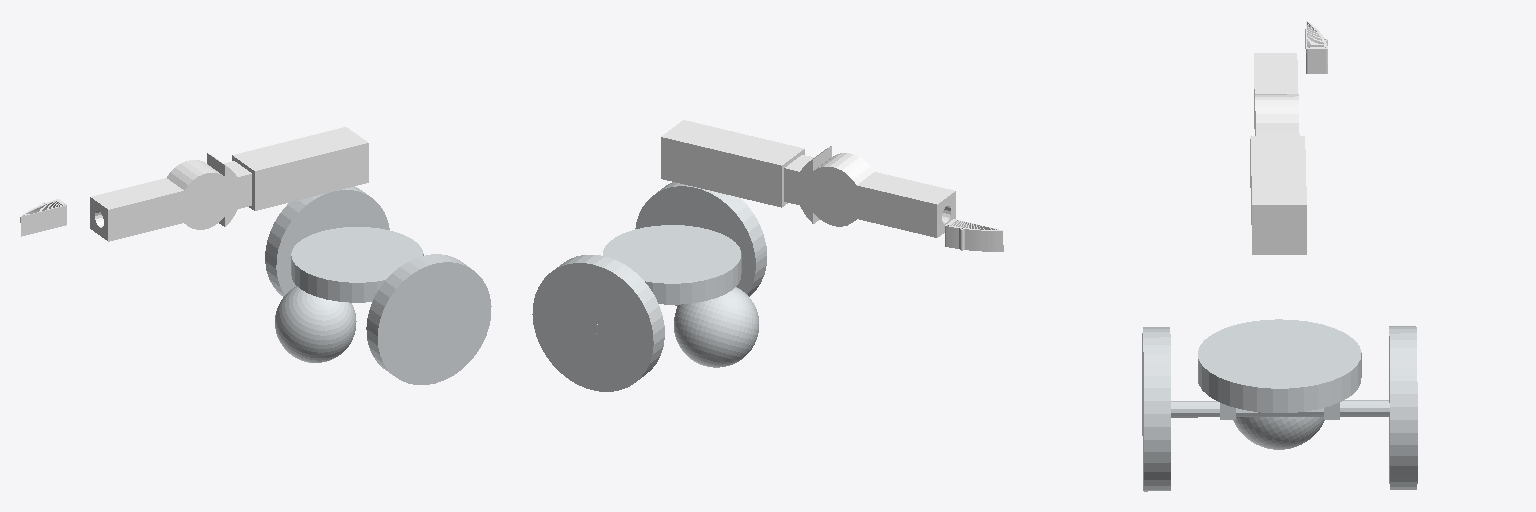
URDF robot description (car3):
<?xml version="1.0" encoding="utf-8"?>
<!-- This URDF was automatically created by SolidWorks to URDF Exporter! Originally created by [author] ([email redacted]) 
     Commit Version: 1.6.0-4-g7f85cfe  Build Version: 1.6.7995.38578
     For more information, please see http://wiki.ros.org/sw_urdf_exporter -->
<robot
  name="car3">
  <link
    name="base_link">
    <inertial>
      <origin
        xyz="0.0053088 6.039E-05 0.20369"
        rpy="0 0 0" />
      <mass
        value="10.782" />
      <inertia
        ixx="0.080479"
        ixy="0.00020744"
        ixz="0.0029973"
        iyy="0.062246"
        iyz="3.4096E-05"
        izz="0.13176" />
    </inertial>
    <visual>
      <origin
        xyz="0 0 0"
        rpy="0 0 0" />
      <geometry>
        <mesh
          filename="package://car3/meshes/base_link.STL" />
      </geometry>
      <material
        name="">
        <color
          rgba="0.89804 0.91765 0.92941 1" />
      </material>
    </visual>
    <collision>
      <origin
        xyz="0 0 0"
        rpy="0 0 0" />
      <geometry>
        <mesh
          filename="package://car3/meshes/base_link.STL" />
      </geometry>
    </collision>
  </link>
  <link
    name="castwheel">
    <inertial>
      <origin
        xyz="-0.063618 0.0087179 -0.089187"
        rpy="0 0 0" />
      <mass
        value="8.9511" />
      <inertia
        ixx="0.030635"
        ixy="0"
        ixz="0"
        iyy="0.030635"
        iyz="0"
        izz="0.030635" />
    </inertial>
    <visual>
      <origin
        xyz="0 0 0"
        rpy="0 0 0" />
      <geometry>
        <mesh
          filename="package://car3/meshes/castwheel.STL" />
      </geometry>
      <material
        name="">
        <color
          rgba="0.89804 0.91765 0.92941 1" />
      </material>
    </visual>
    <collision>
      <origin
        xyz="0 0 0"
        rpy="0 0 0" />
      <geometry>
        <mesh
          filename="package://car3/meshes/castwheel.STL" />
      </geometry>
    </collision>
  </link>
  <joint
    name="castwheel_joint"
    type="continuous">
    <origin
      xyz="0 -0.0012501 0.0925"
      rpy="1.7999 -0.42435 0.8825" />
    <parent
      link="base_link" />
    <child
      link="castwheel" />
    <axis
      xyz="0.57888 -0.079328 0.81154" />
  </joint>
  <link
    name="leftwheel">
    <inertial>
      <origin
        xyz="6.245E-17 3.8164E-17 0.024994"
        rpy="0 0 0" />
      <mass
        value="9.4472" />
      <inertia
        ixx="0.05564"
        ixy="0"
        ixz="0"
        iyy="0.05564"
        iyz="0"
        izz="0.10734" />
    </inertial>
    <visual>
      <origin
        xyz="0 0 0"
        rpy="0 0 0" />
      <geometry>
        <mesh
          filename="package://car3/meshes/leftwheel.STL" />
      </geometry>
      <material
        name="">
        <color
          rgba="0.89804 0.91765 0.92941 1" />
      </material>
    </visual>
    <collision>
      <origin
        xyz="0 0 0"
        rpy="0 0 0" />
      <geometry>
        <mesh
          filename="package://car3/meshes/leftwheel.STL" />
      </geometry>
    </collision>
  </link>
  <joint
    name="leftwheel_joint"
    type="continuous">
    <origin
      xyz="0.057271 -0.19937 0.15"
      rpy="-1.5708 -0.10501 -3.1302" />
    <parent
      link="base_link" />
    <child
      link="leftwheel" />
    <axis
      xyz="0 0 1" />
  </joint>
  <link
    name="rightwheel">
    <inertial>
      <origin
        xyz="-4.1633E-17 8.3267E-17 -0.024994"
        rpy="0 0 0" />
      <mass
        value="9.4472" />
      <inertia
        ixx="0.05564"
        ixy="0"
        ixz="0"
        iyy="0.05564"
        iyz="0"
        izz="0.10734" />
    </inertial>
    <visual>
      <origin
        xyz="0 0 0"
        rpy="0 0 0" />
      <geometry>
        <mesh
          filename="package://car3/meshes/rightwheel.STL" />
      </geometry>
      <material
        name="">
        <color
          rgba="0.89804 0.91765 0.92941 1" />
      </material>
    </visual>
    <collision>
      <origin
        xyz="0 0 0"
        rpy="0 0 0" />
      <geometry>
        <mesh
          filename="package://car3/meshes/rightwheel.STL" />
      </geometry>
    </collision>
  </link>
  <joint
    name="rightwheel_joint"
    type="continuous">
    <origin
      xyz="0.052721 0.20062 0.15"
      rpy="-1.5708 0.93928 -3.1302" />
    <parent
      link="base_link" />
    <child
      link="rightwheel" />
    <axis
      xyz="0 0 1" />
  </joint>
  <link
    name="link1">
    <inertial>
      <origin
        xyz="0.020977 1.0815E-17 0.15"
        rpy="0 0 0" />
      <mass
        value="7.0138" />
      <inertia
        ixx="0.07535"
        ixy="0"
        ixz="0"
        iyy="0.065314"
        iyz="0"
        izz="0.035458" />
    </inertial>
    <visual>
      <origin
        xyz="0 0 0"
        rpy="0 0 0" />
      <geometry>
        <mesh
          filename="package://car3/meshes/link1.STL" />
      </geometry>
      <material
        name="">
        <color
          rgba="1 1 1 0.35" />
      </material>
    </visual>
    <collision>
      <origin
        xyz="0 0 0"
        rpy="0 0 0" />
      <geometry>
        <mesh
          filename="package://car3/meshes/link1.STL" />
      </geometry>
    </collision>
  </link>
  <joint
    name="joint1"
    type="revolute">
    <origin
      xyz="0 0 0.235"
      rpy="0 0 0.011375" />
    <parent
      link="base_link" />
    <child
      link="link1" />
    <axis
      xyz="0 0 1" />
    <limit
      lower="-3.14"
      upper="3.14"
      effort="50"
      velocity="1.5" />
  </joint>
  <link
    name="link2">
    <inertial>
      <origin
        xyz="-0.13517 2.2454E-16 0"
        rpy="0 0 0" />
      <mass
        value="1.2926" />
      <inertia
        ixx="0.0033047"
        ixy="0"
        ixz="0"
        iyy="0.012724"
        iyz="0"
        izz="0.012724" />
    </inertial>
    <visual>
      <origin
        xyz="0 0 0"
        rpy="0 0 0" />
      <geometry>
        <mesh
          filename="package://car3/meshes/link2.STL" />
      </geometry>
      <material
        name="">
        <color
          rgba="1 1 1 0.35" />
      </material>
    </visual>
    <collision>
      <origin
        xyz="0 0 0"
        rpy="0 0 0" />
      <geometry>
        <mesh
          filename="package://car3/meshes/link2.STL" />
      </geometry>
    </collision>
  </link>
  <joint
    name="joint2"
    type="prismatic">
    <origin
      xyz="0 0 0.25"
      rpy="0 0 0" />
    <parent
      link="link1" />
    <child
      link="link2" />
    <axis
      xyz="0 0 1" />
    <limit
      lower="-0.2"
      upper="0"
      effort="10"
      velocity="1.5" />
  </joint>
  <link
    name="link3">
    <inertial>
      <origin
        xyz="0.094255 1.4008E-16 1.6653E-16"
        rpy="0 0 0" />
      <mass
        value="2.2879" />
      <inertia
        ixx="0.0027483"
        ixy="0"
        ixz="0"
        iyy="0.022648"
        iyz="0"
        izz="0.02234" />
    </inertial>
    <visual>
      <origin
        xyz="0 0 0"
        rpy="0 0 0" />
      <geometry>
        <mesh
          filename="package://car3/meshes/link3.STL" />
      </geometry>
      <material
        name="">
        <color
          rgba="1 1 1 0.35" />
      </material>
    </visual>
    <collision>
      <origin
        xyz="0 0 0"
        rpy="0 0 0" />
      <geometry>
        <mesh
          filename="package://car3/meshes/link3.STL" />
      </geometry>
    </collision>
  </link>
  <joint
    name="joint3"
    type="prismatic">
    <origin
      xyz="-0.3 0 0"
      rpy="0 0 0" />
    <parent
      link="link2" />
    <child
      link="link3" />
    <axis
      xyz="1 0 0" />
    <limit
      lower="-0.26"
      upper="0"
      effort="10"
      velocity="1.5" />
  </joint>
  <link
    name="link4">
    <inertial>
      <origin
        xyz="-0.076653 5.6379E-17 0"
        rpy="0 0 0" />
      <mass
        value="2.5617" />
      <inertia
        ixx="0.0037141"
        ixy="0"
        ixz="0"
        iyy="0.023523"
        iyz="0"
        izz="0.022599" />
    </inertial>
    <visual>
      <origin
        xyz="0 0 0"
        rpy="0 0 0" />
      <geometry>
        <mesh
          filename="package://car3/meshes/link4.STL" />
      </geometry>
      <material
        name="">
        <color
          rgba="1 1 1 0.35" />
      </material>
    </visual>
    <collision>
      <origin
        xyz="0 0 0"
        rpy="0 0 0" />
      <geometry>
        <mesh
          filename="package://car3/meshes/link4.STL" />
      </geometry>
    </collision>
  </link>
  <joint
    name="joint4"
    type="revolute">
    <origin
      xyz="-0.1216 0 0"
      rpy="0 0 0" />
    <parent
      link="link3" />
    <child
      link="link4" />
    <axis
      xyz="0 -1 0" />
    <limit
      lower="-1.57"
      upper="1.57"
      effort="50"
      velocity="1.5" />
  </joint>
  <link
    name="link5">
    <inertial>
      <origin
        xyz="-0.023312 3.6429E-17 1.6653E-16"
        rpy="0 0 0" />
      <mass
        value="1.7726" />
      <inertia
        ixx="0.0086712"
        ixy="0"
        ixz="0"
        iyy="0.0047611"
        iyz="1.3921E-06"
        izz="0.0050018" />
    </inertial>
    <visual>
      <origin
        xyz="0 0 0"
        rpy="0 0 0" />
      <geometry>
        <mesh
          filename="package://car3/meshes/link5.STL" />
      </geometry>
      <material
        name="">
        <color
          rgba="1 1 1 0.35" />
      </material>
    </visual>
    <collision>
      <origin
        xyz="0 0 0"
        rpy="0 0 0" />
      <geometry>
        <mesh
          filename="package://car3/meshes/link5.STL" />
      </geometry>
    </collision>
  </link>
  <joint
    name="joint5"
    type="revolute">
    <origin
      xyz="-0.25745 0 0"
      rpy="0 0 0" />
    <parent
      link="link4" />
    <child
      link="link5" />
    <axis
      xyz="-1 0 0" />
    <limit
      lower="-3.14"
      upper="3.14"
      effort="50"
      velocity="1.5" />
  </joint>
  <link
    name="finger1">
    <inertial>
      <origin
        xyz="-0.043191 -0.0022229 1.6653E-16"
        rpy="0 0 0" />
      <mass
        value="0.097614" />
      <inertia
        ixx="3.3639E-05"
        ixy="-1.209E-05"
        ixz="0"
        iyy="0.0001198"
        iyz="0"
        izz="0.00011277" />
    </inertial>
    <visual>
      <origin
        xyz="0 0 0"
        rpy="0 0 0" />
      <geometry>
        <mesh
          filename="package://car3/meshes/finger1.STL" />
      </geometry>
      <material
        name="">
        <color
          rgba="1 1 1 0.35" />
      </material>
    </visual>
    <collision>
      <origin
        xyz="0 0 0"
        rpy="0 0 0" />
      <geometry>
        <mesh
          filename="package://car3/meshes/finger1.STL" />
      </geometry>
    </collision>
  </link>
  <joint
    name="fin1"
    type="prismatic">
    <origin
      xyz="-0.05 0.076716 -0.00044365"
      rpy="-0.0057829 0 0" />
    <parent
      link="link5" />
    <child
      link="finger1" />
    <axis
      xyz="0 0.99998 0.0057829" />
    <limit
      lower="-0.05"
      upper="0"
      effort="30"
      velocity="1.0" />
  </joint>
  <link
    name="finger2">
    <inertial>
      <origin
        xyz="-0.043191 0.0022229 2.1094E-15"
        rpy="0 0 0" />
      <mass
        value="0.097614" />
      <inertia
        ixx="3.3639E-05"
        ixy="1.209E-05"
        ixz="0"
        iyy="0.0001198"
        iyz="0"
        izz="0.00011277" />
    </inertial>
    <visual>
      <origin
        xyz="0 0 0"
        rpy="0 0 0" />
      <geometry>
        <mesh
          filename="package://car3/meshes/finger2.STL" />
      </geometry>
      <material
        name="">
        <color
          rgba="1 1 1 0.35" />
      </material>
    </visual>
    <collision>
      <origin
        xyz="0 0 0"
        rpy="0 0 0" />
      <geometry>
        <mesh
          filename="package://car3/meshes/finger2.STL" />
      </geometry>
    </collision>
  </link>
  <joint
    name="fin2"
    type="prismatic">
    <origin
      xyz="-0.05 -0.077005 0.00044532"
      rpy="-0.0057829 0 0" />
    <parent
      link="link5" />
    <child
      link="finger2" />
    <axis
      xyz="0 0.99998 0.0057829" />
    <limit
      lower="0"
      upper="0.05"
      effort="30"
      velocity="1.0" />
  </joint>
</robot>

--- Facts derived from the render (not from the file) ---
Views: 3 orthographic renders of the robot side by side, from view 1: azimuth 30°, elevation 25°; view 2: azimuth 150°, elevation 25°; view 3: azimuth 270°, elevation 25°.
Model car3 with 11 links and 10 joints (3 revolute, 3 continuous, 4 prismatic), rooted at base_link, posed every joint at zero.
Visible links, largest first — view 1: leftwheel, link4, base_link, link2, rightwheel, castwheel, link3, finger1; view 2: rightwheel, link4, base_link, link2, leftwheel, castwheel, finger1, link3; view 3: base_link, link2, leftwheel, rightwheel, link4, castwheel, link3, finger1.
Boxes of the visible links, left/top/right/bottom form: leftwheel: left=366, top=254, right=491, bottom=384; link4: left=90, top=160, right=232, bottom=241; base_link: left=291, top=227, right=439, bottom=329; link2: left=232, top=127, right=368, bottom=210; rightwheel: left=265, top=186, right=389, bottom=296; castwheel: left=275, top=286, right=356, bottom=362; link3: left=207, top=153, right=251, bottom=226; finger1: left=20, top=199, right=66, bottom=236; rightwheel: left=532, top=255, right=664, bottom=391; link4: left=805, top=153, right=955, bottom=237; base_link: left=587, top=225, right=741, bottom=333; link2: left=661, top=120, right=804, bottom=207; leftwheel: left=635, top=182, right=766, bottom=306; castwheel: left=674, top=287, right=758, bottom=367; finger1: left=945, top=219, right=1003, bottom=251; link3: left=784, top=146, right=831, bottom=223; base_link: left=1171, top=319, right=1389, bottom=419; link2: left=1250, top=136, right=1306, bottom=254; leftwheel: left=1142, top=327, right=1170, bottom=491; rightwheel: left=1389, top=326, right=1417, bottom=489; link4: left=1254, top=53, right=1298, bottom=135; castwheel: left=1233, top=417, right=1324, bottom=449; link3: left=1255, top=105, right=1299, bottom=135; finger1: left=1305, top=21, right=1327, bottom=73.
Bounding box of the posed robot: 1.06 × 0.5034 × 0.5624 m (x, y, z).
8 mesh visuals loaded from 11 distinct referenced files (8 binary STL); not drawn: 3 (reference not matched to a file when rendering).